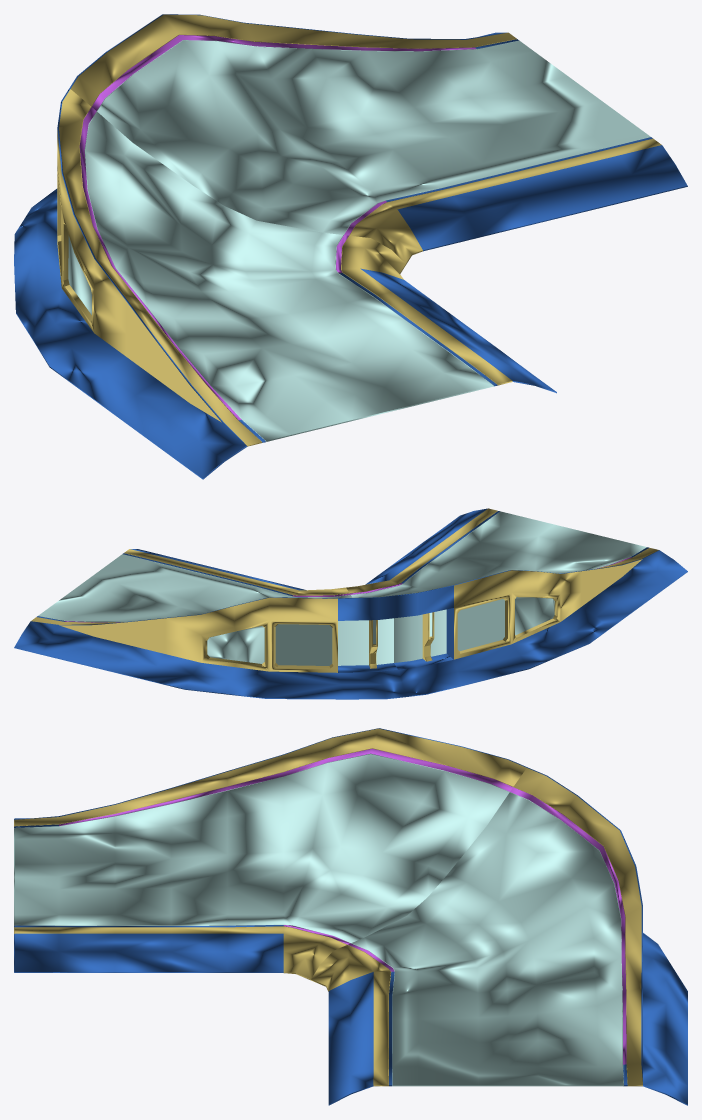
Rendered from RaceTrack_clean_deluxe_prop_uee_14.glb.
3 renders of one model, top to bottom at view 1: azimuth 30°, elevation 25°; view 2: azimuth 150°, elevation 25°; view 3: azimuth 270°, elevation 25°, orthographic. The views are drawn at different scales.
Bounding box in the file's own units: 15 × 2.98 × 15.
